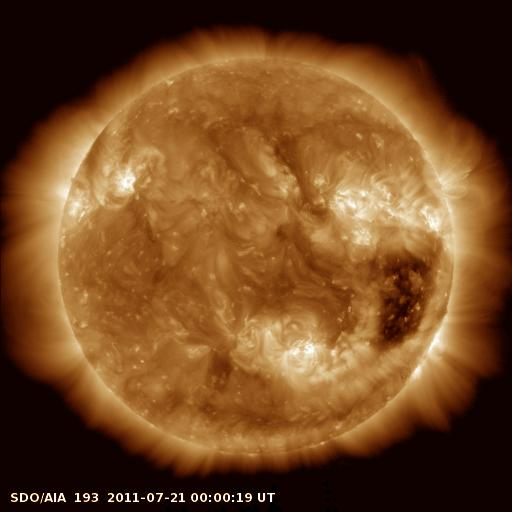coronal_hole: (367, 250, 443, 352)
